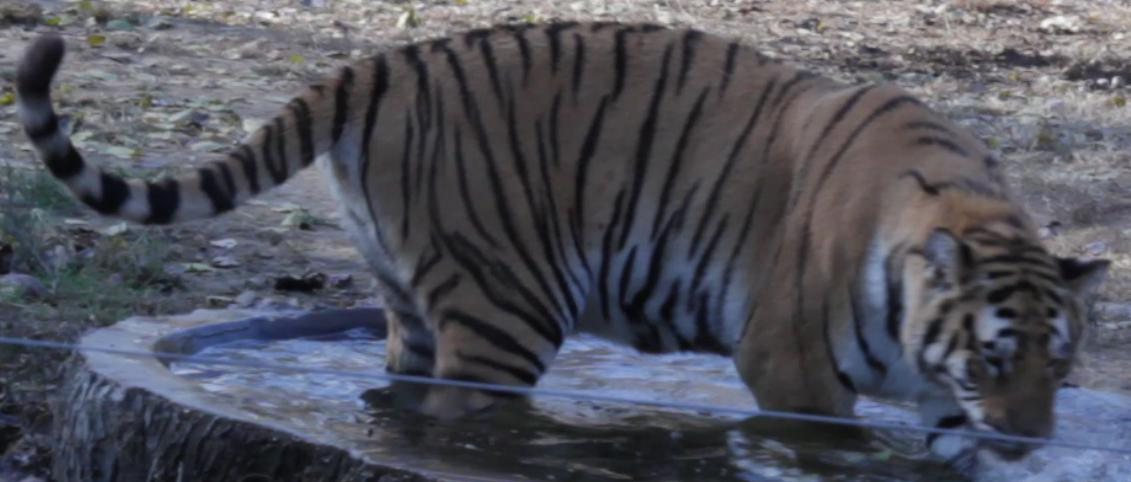tiger: (15, 21, 1107, 436)
